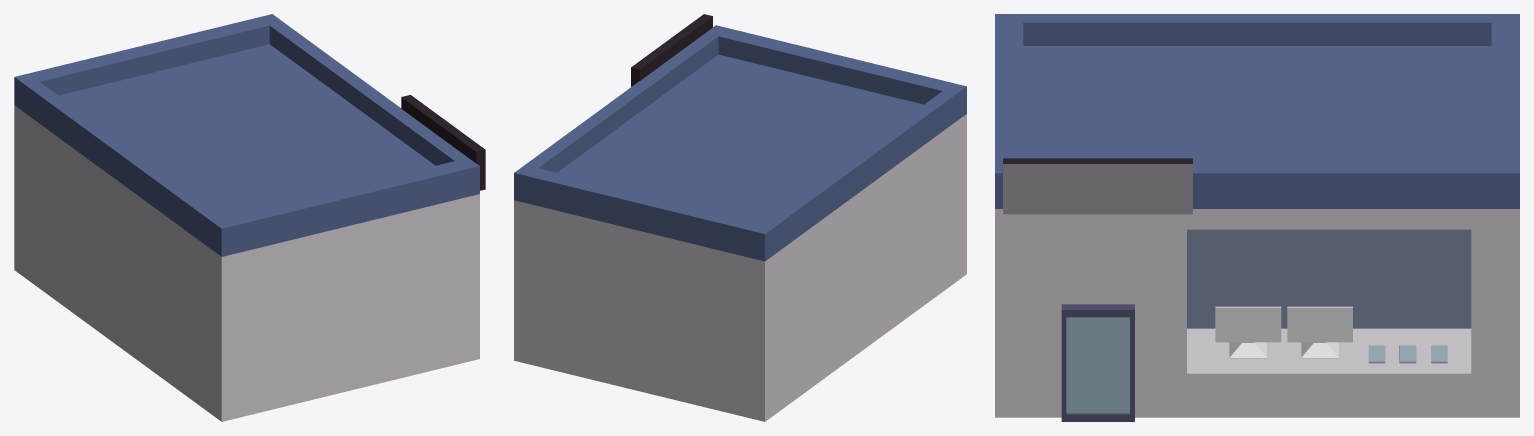
Rendered from techstore_03.fbx.
The picture shows the model from 3 angles, left to right: view 1: azimuth 30°, elevation 25°; view 2: azimuth 150°, elevation 25°; view 3: azimuth 270°, elevation 25°; orthographic projection. The views are drawn at different scales.
Visible parts, largest first — view 1: shop, tabela; view 2: shop, tabela; view 3: shop, tabela, door, Plane, Plane.001.
Boxes of the visible parts, bbox=[...] form: shop: bbox=[14, 14, 479, 421]; tabela: bbox=[401, 95, 485, 190]; shop: bbox=[514, 25, 966, 421]; tabela: bbox=[631, 14, 712, 86]; shop: bbox=[995, 14, 1519, 417]; tabela: bbox=[1003, 158, 1192, 214]; door: bbox=[1061, 304, 1134, 421]; Plane: bbox=[1215, 306, 1281, 358]; Plane.001: bbox=[1287, 306, 1352, 358].
Size of the model in its own units: 631 by 462 by 849.
Materials: 5 (4 with a texture image).
